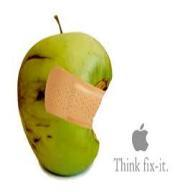apple: (18, 36, 112, 176)
